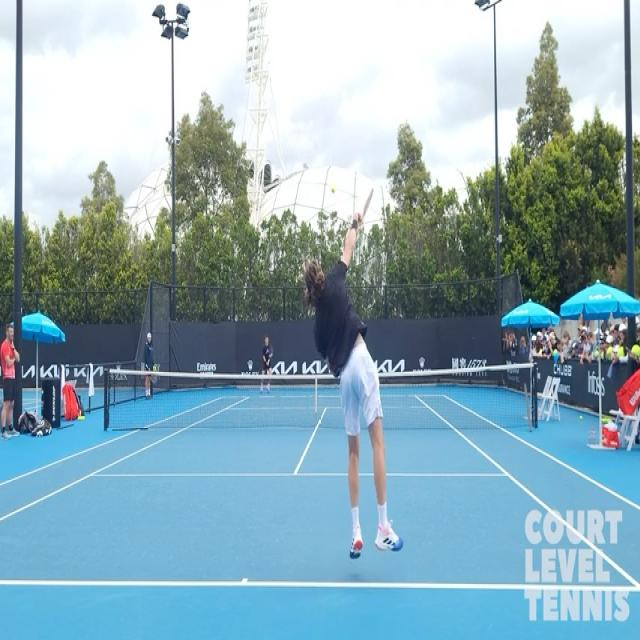serve_followthrough: (294, 178, 406, 582)
